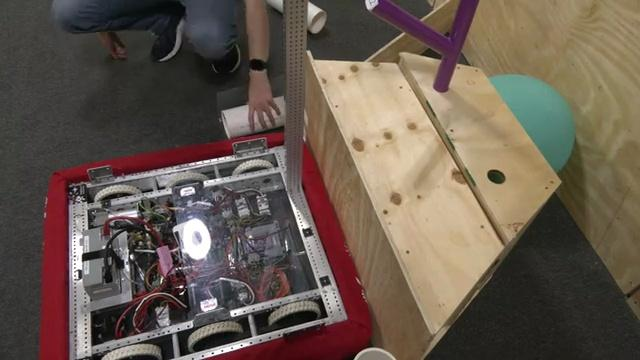CORAL: (220, 97, 289, 137)
